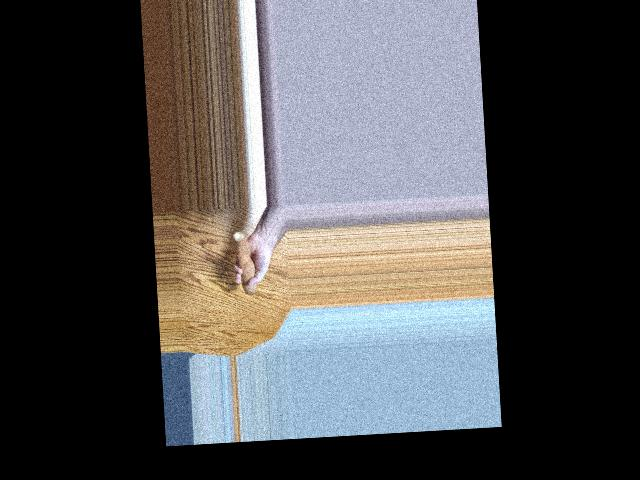sweet_potato: (234, 228, 260, 300)
